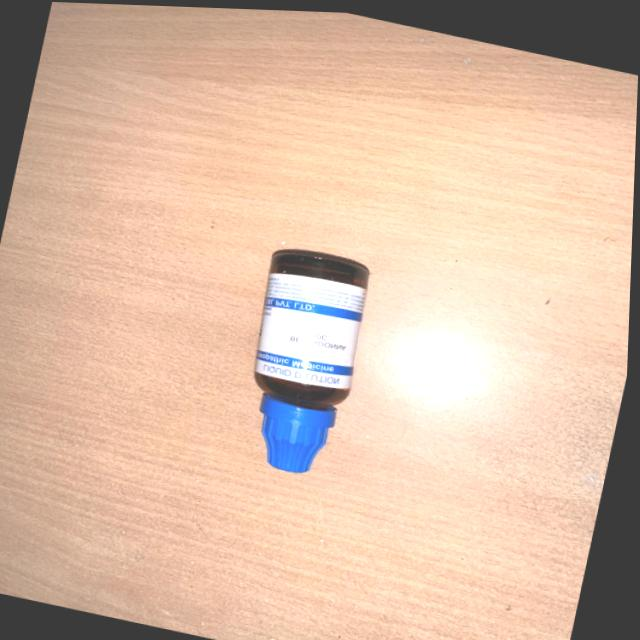medicine: (227, 231, 392, 493)
